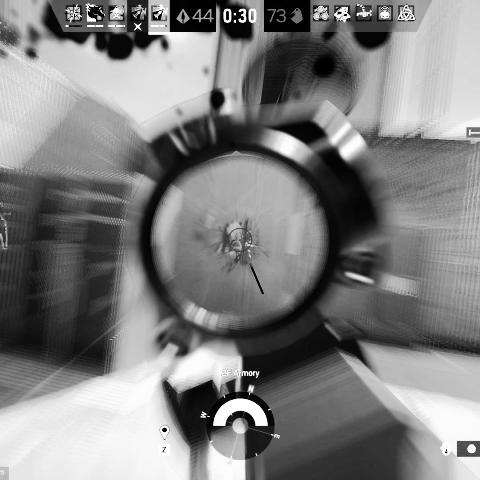Character: (228, 240, 243, 264)
Friend_label: (0, 200, 13, 216)
Head: (232, 240, 242, 253)
